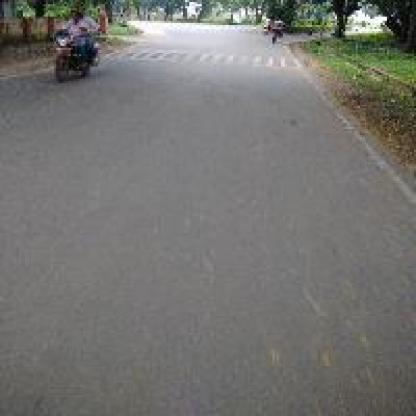Speed Bump: (100, 44, 306, 70)
